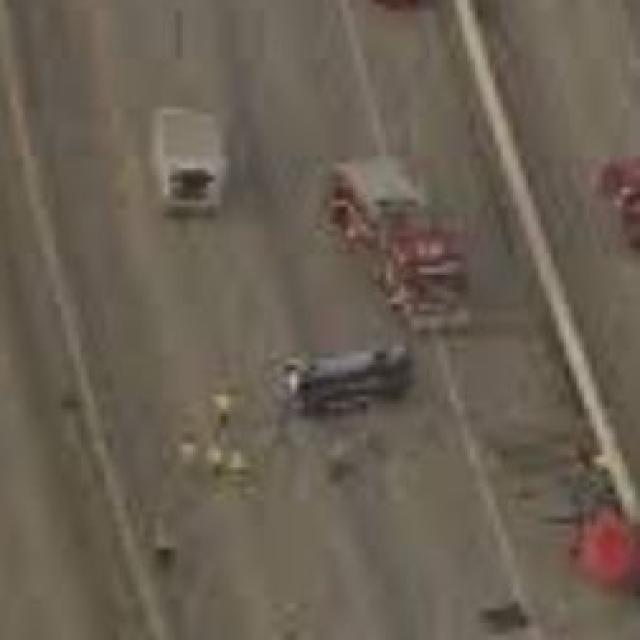traffic_incident: (272, 338, 411, 414)
